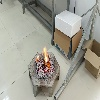fire: (42, 46, 50, 71), (36, 55, 39, 61)
